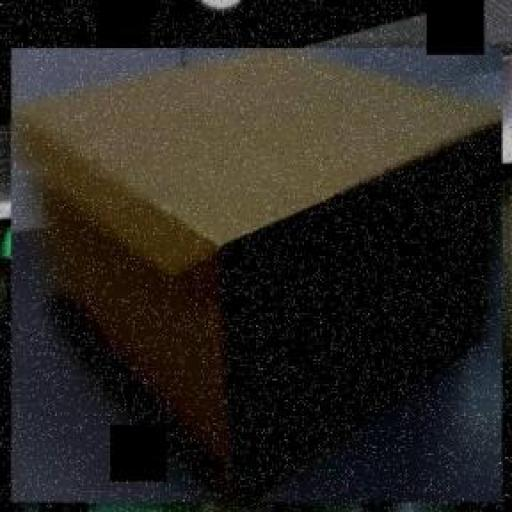box: (4, 42, 510, 509)
